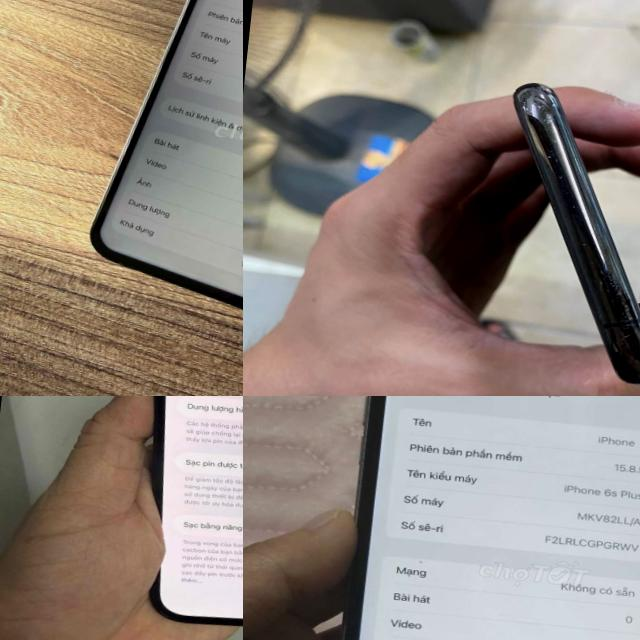gen_12_13: (73, 0, 243, 337), (119, 396, 243, 640)
gen_6: (341, 396, 640, 640)
gen_x_xs: (462, 73, 640, 391)
